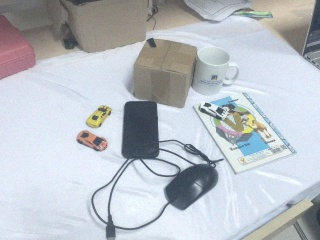book: (191, 88, 298, 175)
box: (48, 1, 152, 54), (133, 37, 196, 109)
cup: (190, 45, 230, 97)
mouse: (164, 161, 220, 211)
phone: (120, 99, 160, 160)
toy_car: (76, 129, 109, 152), (85, 105, 112, 129), (197, 100, 229, 120)
